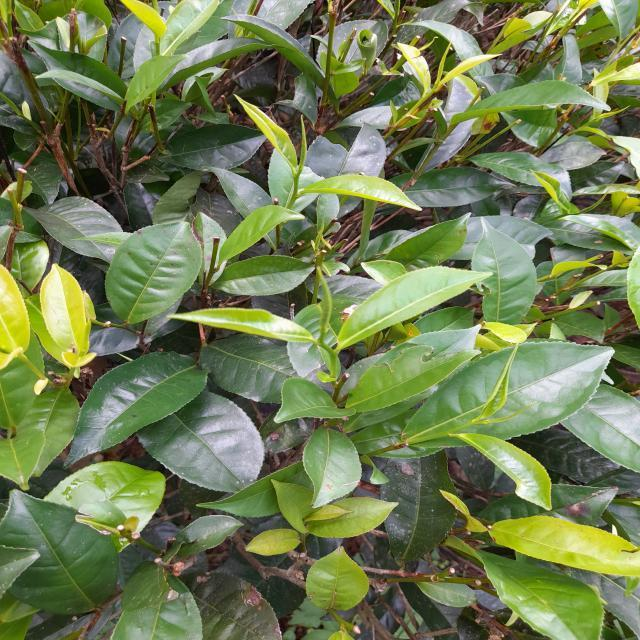Stem: (320, 342, 327, 349), (466, 420, 473, 426), (430, 87, 437, 93), (293, 175, 299, 180)
